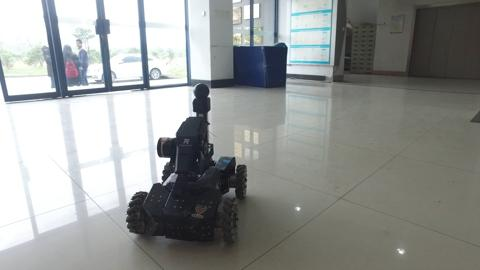chariot: (120, 81, 253, 248)
